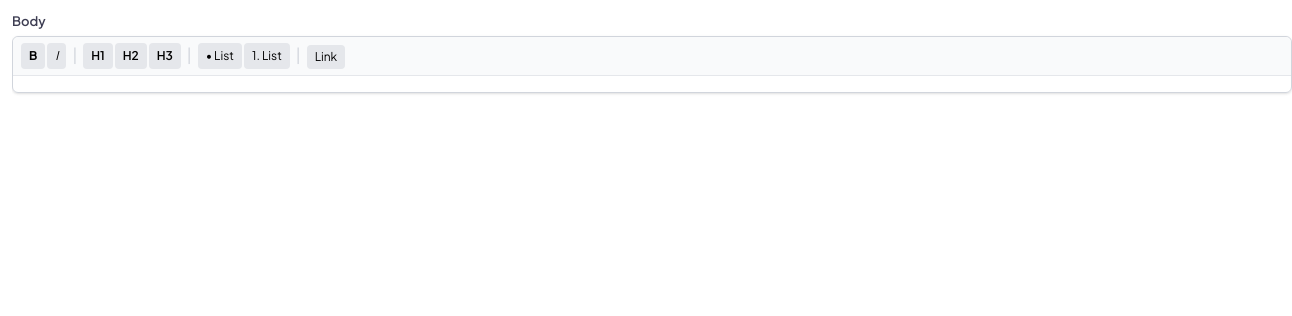
it: RichTextEditor › link button toggles the link popover, and Cancel closes it
Expected: the text "CSS class" is not shown
Click the button "Link" at (326, 56), box left=307, top=44, right=345, bottom=68
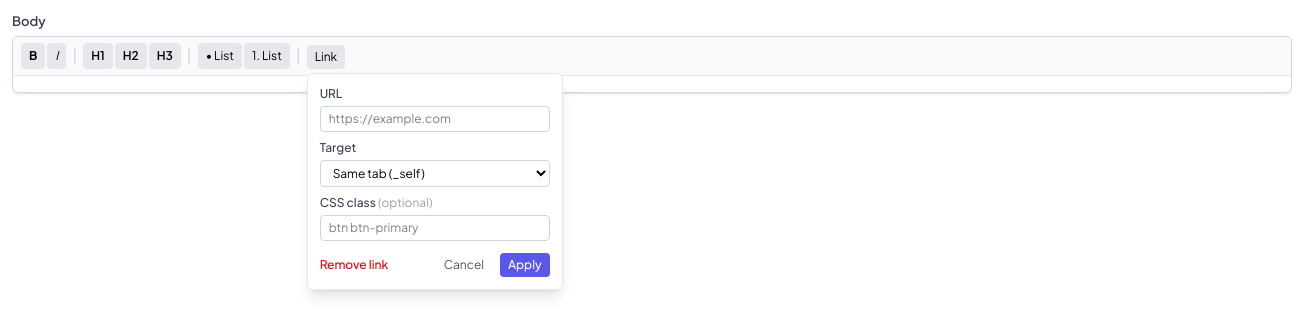
Now the text "CSS class" is shown, box left=320, top=194, right=378, bottom=210
Now the field with placeholder "https://example.com" is shown, box left=320, top=106, right=550, bottom=132
Now the dropdown is shown, box left=320, top=160, right=550, bottom=186
Click the button "Cancel" at (464, 264), box left=436, top=252, right=492, bottom=276
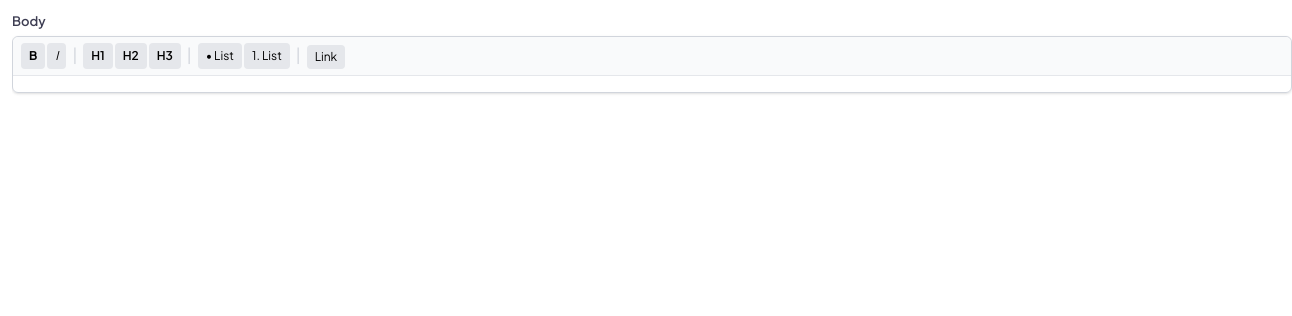
Now the text "CSS class" is gone
